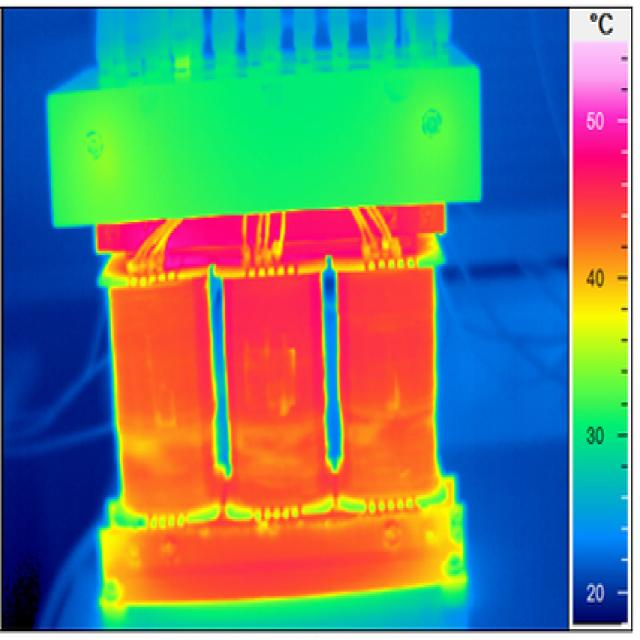Transformer: (49, 42, 513, 622)
